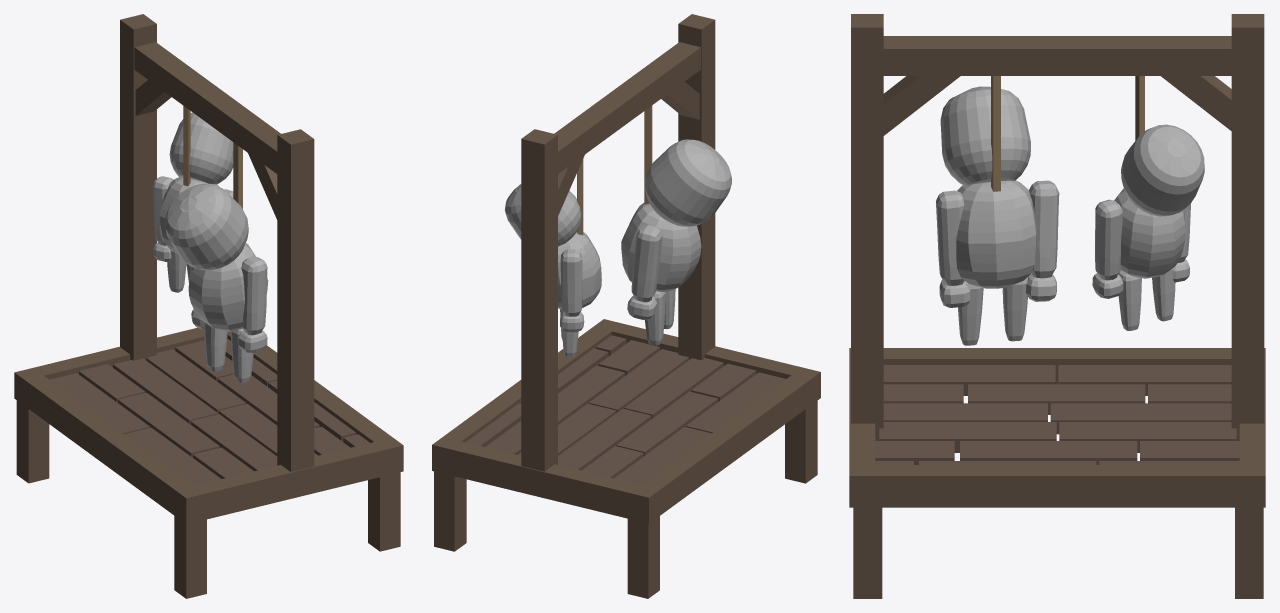
The model's file is hangman_3.glb.
The picture shows the model from 3 angles, left to right: view 1: azimuth 30°, elevation 25°; view 2: azimuth 150°, elevation 25°; view 3: azimuth 270°, elevation 25°; orthographic projection. The views are drawn at different scales.
Visible parts, largest first — view 1: Cube.1075; view 2: Cube.1075; view 3: Cube.1075.
Boxes of the visible parts, x1,y1,x2,y2 form: Cube.1075: (14, 14, 403, 598); Cube.1075: (432, 14, 820, 598); Cube.1075: (849, 14, 1265, 598).
Size of the model in its own units: 0.0619 by 0.117 by 0.0849.
